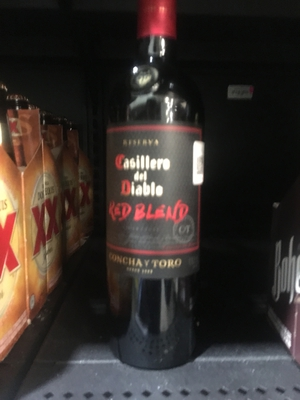casillero del diablo red blend: (99, 25, 224, 358)
